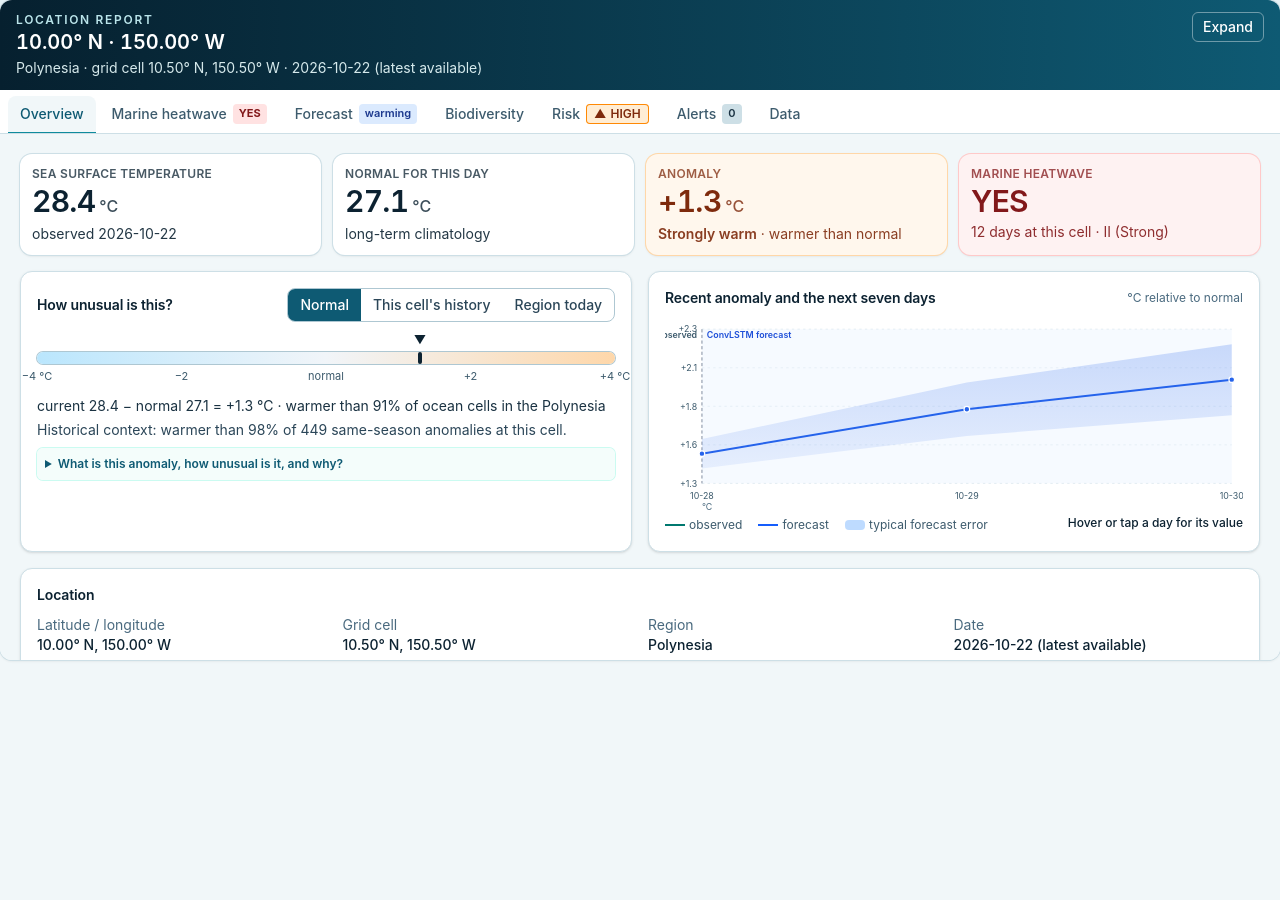
Explainable AI panel › the warmer/cooler explanation for a warming forecast is the backend's own text
Click the tab "Forecast warming".
click(356, 115)  # box [283,96,429,134]
(page scrolled)
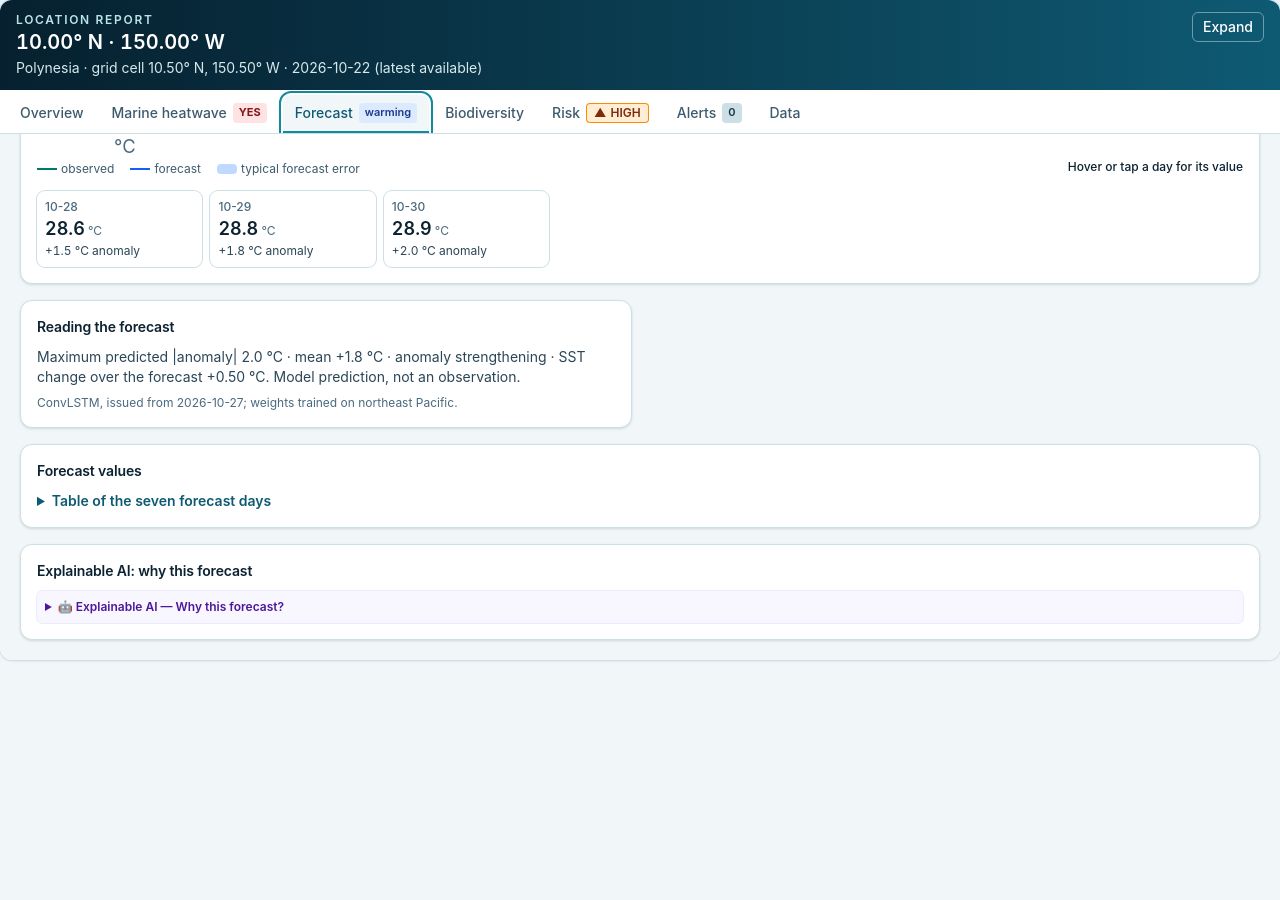
Click the heading "🤖 Explainable AI — Why this forecast?".
click(171, 606)  # box [58,599,284,614]
(page scrolled)
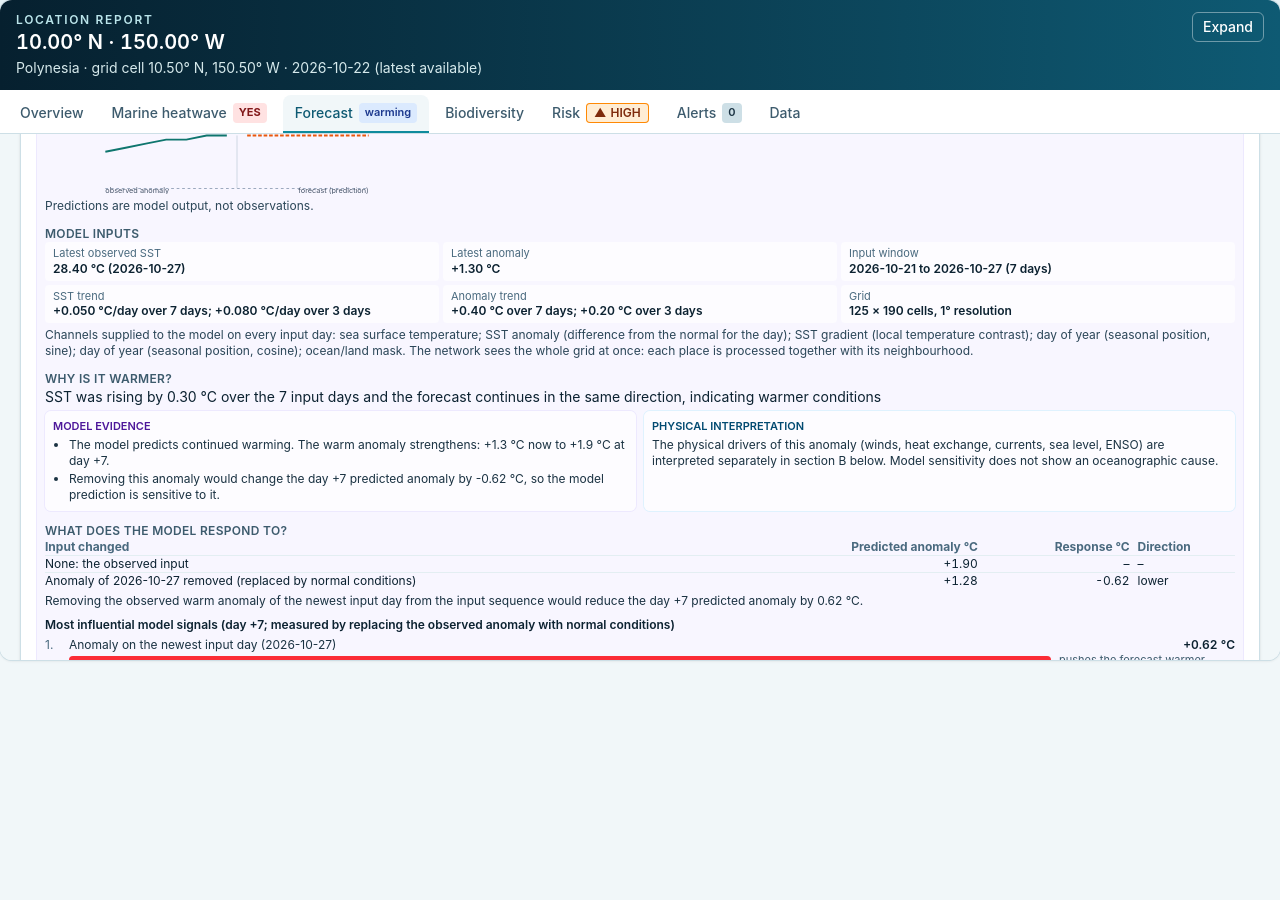
Expected: the text with test id "xai-plain" shows "SST was rising by 0.30 °C over the 7 input days and the forecast continues in the same direction, indicating warmer conditions", [45,388,881,405]
